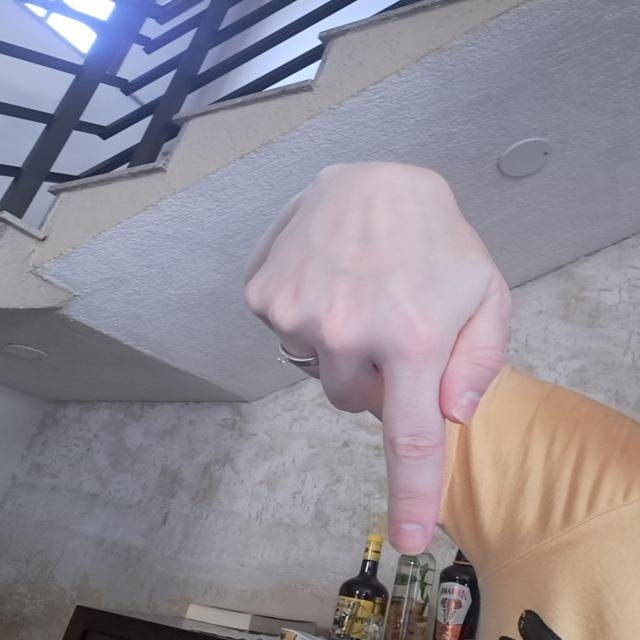Q: (256, 153, 512, 555)
